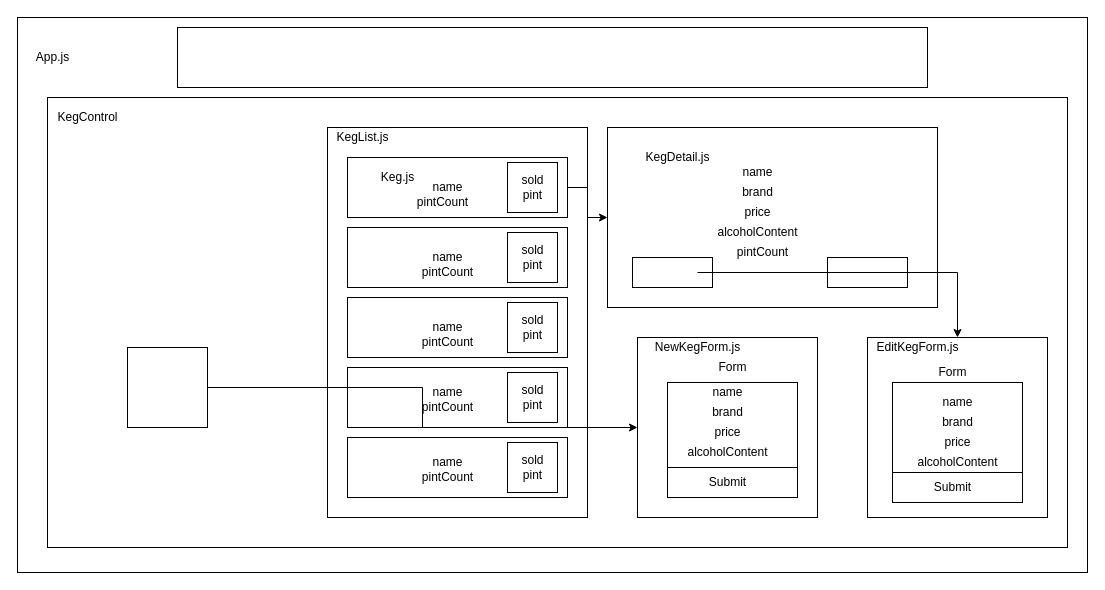
Image size: 1105x590. Some labels were removed from this diagram. The shapes that lost their labels are listed below. From the top down, each one's box as (x1, y1, x2, y2) in pixels, then its label:
(176, 26, 928, 88): Header.js
(632, 256, 712, 288): Update
(826, 256, 908, 288): Delete
(126, 346, 208, 428): AddKeg.js
